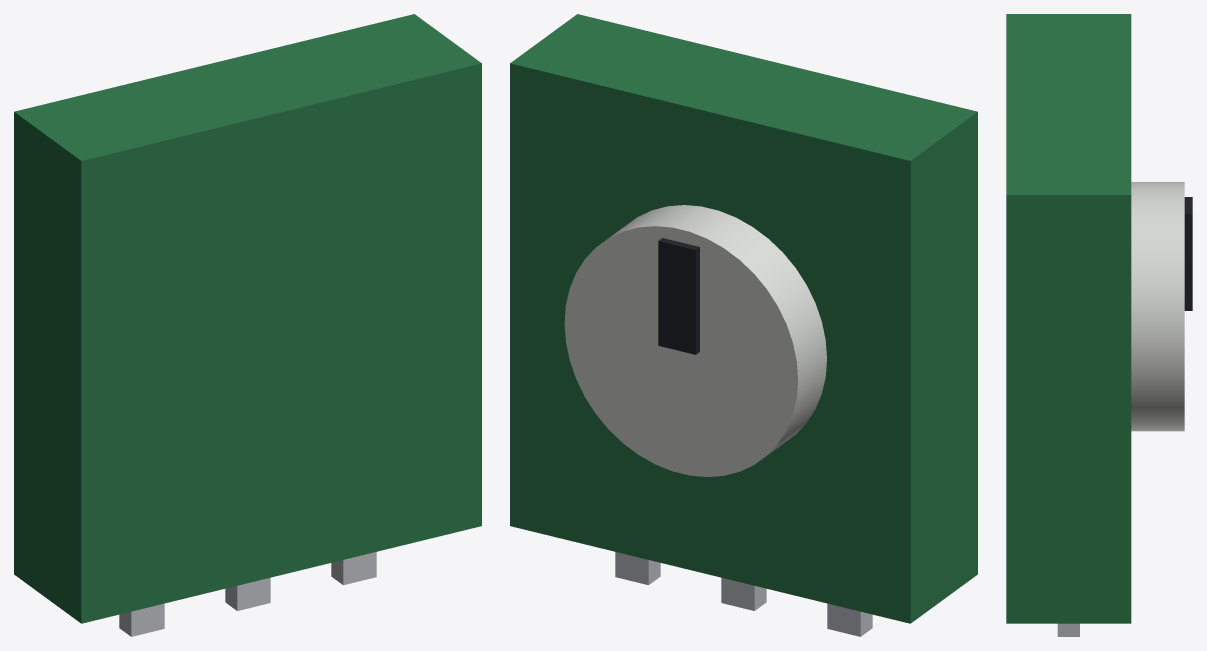
The model's file is joystick-ky023-pot.glb.
The picture shows the model from 3 angles, left to right: view 1: azimuth 30°, elevation 25°; view 2: azimuth 150°, elevation 25°; view 3: azimuth 270°, elevation 25°; orthographic projection. The views are drawn at different scales.
Parts seen in each view (by area): view 1: object 1, object 3; view 2: object 1, rotor, object 3; view 3: object 1, rotor, object 3.
Boxes of the visible parts, left/top/right/bottom form: object 1: left=14, top=14, right=481, bottom=623; object 3: left=119, top=552, right=376, bottom=636; object 1: left=510, top=14, right=977, bottom=623; rotor: left=564, top=205, right=826, bottom=476; object 3: left=615, top=552, right=872, bottom=636; object 1: left=1006, top=14, right=1131, bottom=623; rotor: left=1131, top=182, right=1192, bottom=431; object 3: left=1057, top=623, right=1079, bottom=636.
Size of the model in its own units: 0.0096 by 0.0118 by 0.00417.
